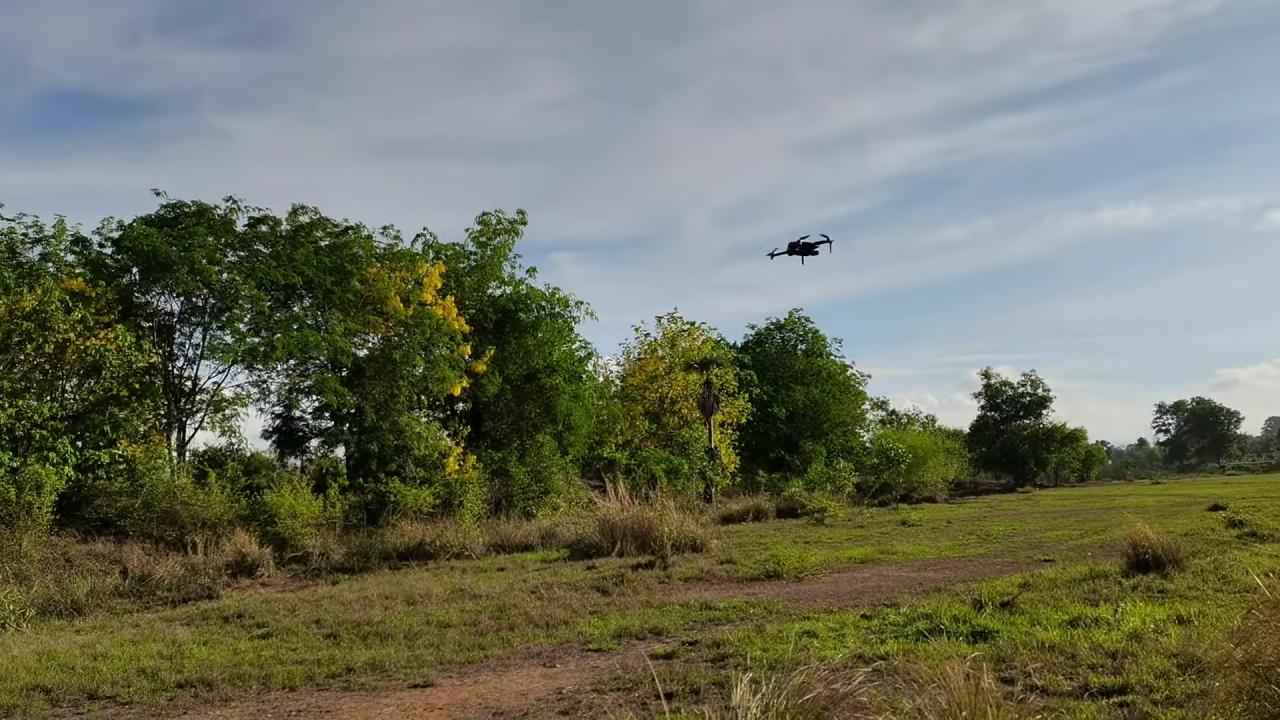Drone: (758, 225, 847, 272)
